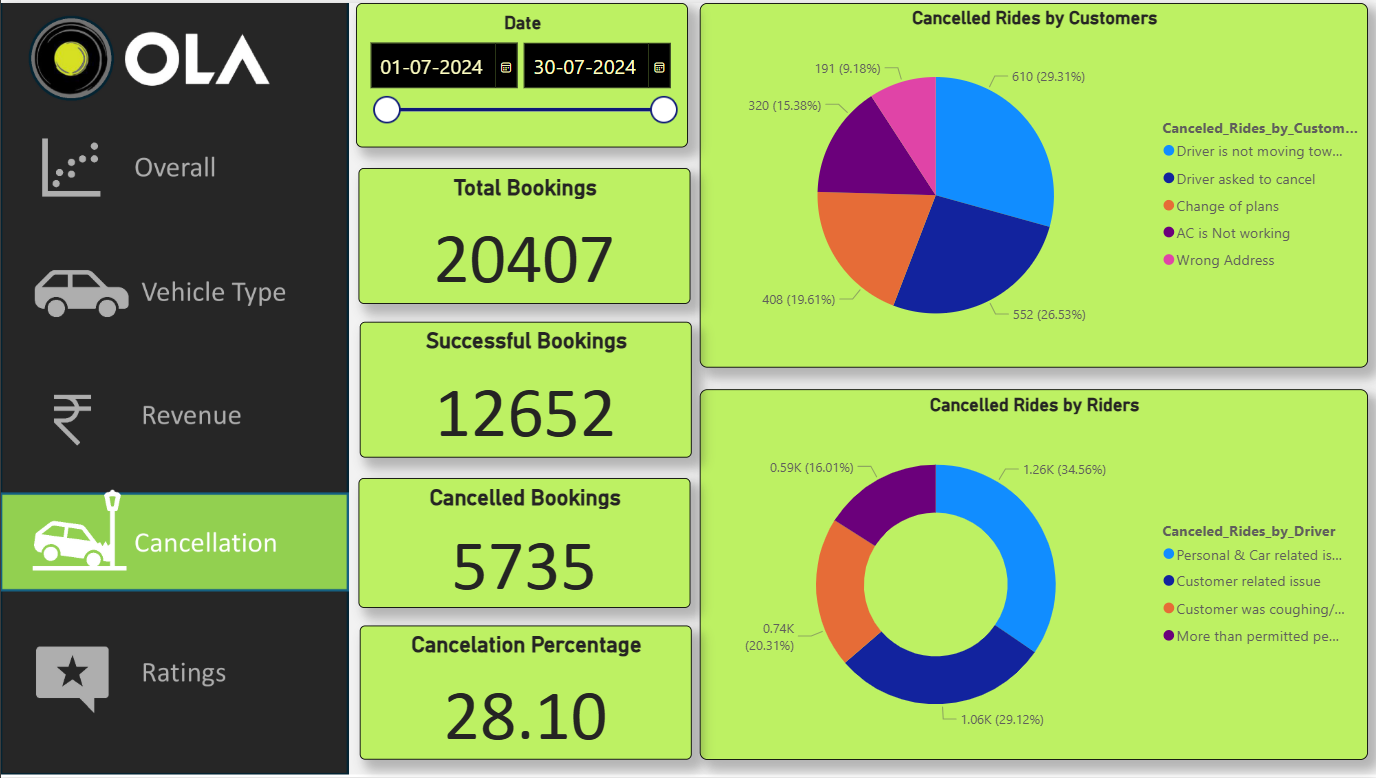

The page's visual inventory and layout, read from the dashboard file:
{"tool":"powerbi","page":{"name":"Cancellation","canvas":[1280,720],"ordinal":3},"visuals":[{"type":"actionButton","box":[0,578.5,323.3,94.1],"z":0},{"type":"actionButton","box":[0,110,323.3,94.1],"z":1},{"type":"actionButton","box":[0,223.4,323.3,94.1],"z":2},{"type":"actionButton","box":[0,339.1,323.3,94.1],"z":3},{"type":"pieChart","title":"Cancelled Rides by Customers","fields":{"Y":["CountNonNull(booking.Canceled_Rides_by_Customer)"],"Category":["booking.Canceled_Rides_by_Customer"]},"box":[650.4,0,621.6,338.9],"z":4},{"type":"donutChart","title":"Cancelled Rides by Riders","fields":{"Category":["booking.Canceled_Rides_by_Driver"],"Y":["CountNonNull(booking.Canceled_Rides_by_Driver)"]},"box":[650.4,359.5,621.6,344.4],"z":5},{"type":"slicer","title":"Date","fields":{"Values":["booking.Date"]},"box":[330.7,0,308.7,134.5],"z":6},{"type":"card","title":"Total Bookings","fields":{"Values":["Count(booking.Booking_ID)"]},"box":[332.1,153,308.7,126.2],"z":7},{"type":"card","title":"Successful Bookings","fields":{"Values":["Count(booking.Booking_ID)"]},"box":[333.4,297,308.7,126.2],"z":8},{"type":"card","title":"Cancelled Bookings","fields":{"Values":["Count(booking.Booking_ID)"]},"box":[332.1,442,308.7,120.8],"z":9},{"type":"card","title":"Cancelation Percentage","fields":{"Values":["booking.CanceledPercentage"]},"box":[333.4,579.1,308.7,124.9],"z":10}]}

Visuals, with their boxes on the page's 1280x720 design canvas (x1, y1, x2, y2). These are canvas units, not pixel positions in the 1376x778 screenshot, which may show the page scaled, cropped or inside an application window:
actionButton: 0, 578, 323, 673
actionButton: 0, 110, 323, 204
actionButton: 0, 223, 323, 318
actionButton: 0, 339, 323, 433
"Cancelled Rides by Customers" pieChart: 650, 0, 1272, 339
"Cancelled Rides by Riders" donutChart: 650, 360, 1272, 704
"Date" slicer: 331, 0, 639, 134
"Total Bookings" card: 332, 153, 641, 279
"Successful Bookings" card: 333, 297, 642, 423
"Cancelled Bookings" card: 332, 442, 641, 563
"Cancelation Percentage" card: 333, 579, 642, 704
